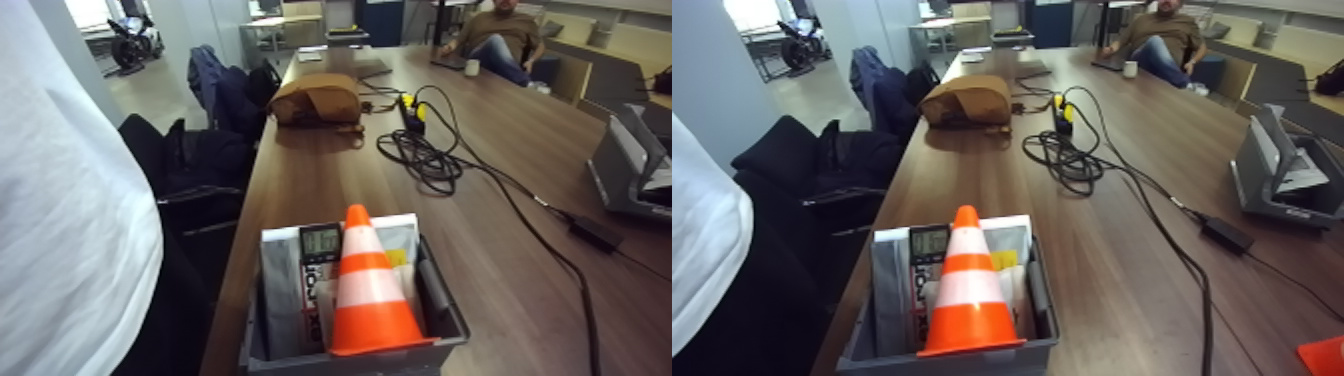cone: (919, 184, 1037, 376), (321, 201, 458, 363)
